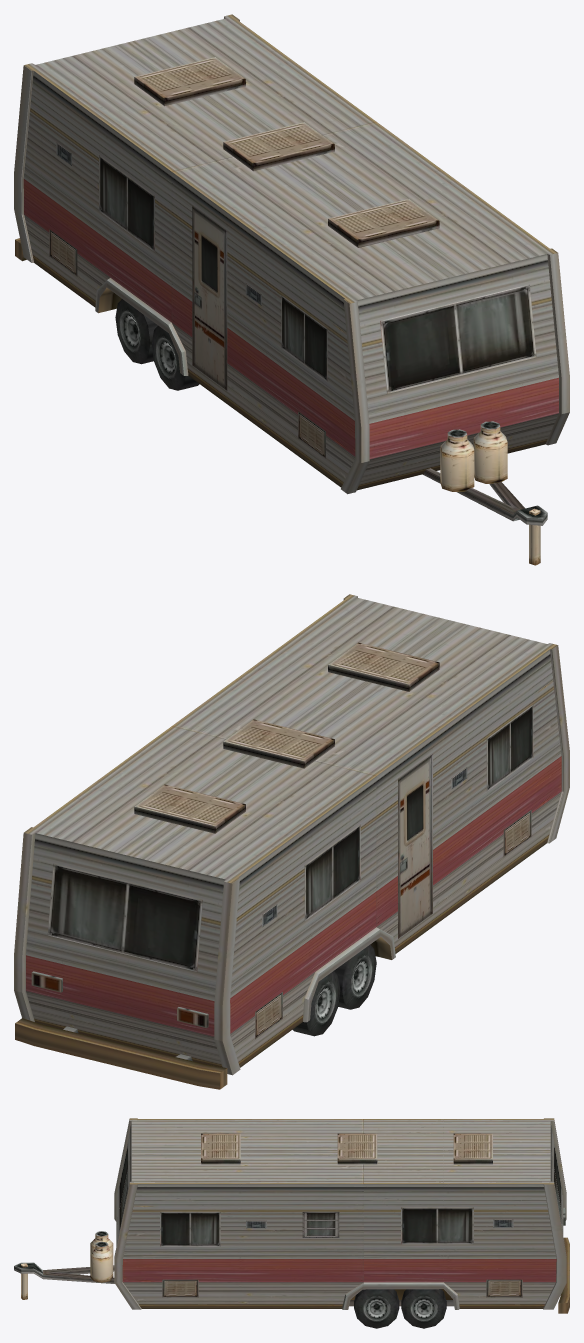
The model's file is rural-trailer.lod0.glb.
3 renders of one model, top to bottom at view 1: azimuth 30°, elevation 25°; view 2: azimuth 150°, elevation 25°; view 3: azimuth 270°, elevation 25°, orthographic. The views are drawn at different scales.
Parts seen in each view (by area): view 1: Rural_TrailerH_1_Rural_Trailer_Stuff_1_0; view 2: Rural_TrailerH_1_Rural_Trailer_Stuff_1_0; view 3: Rural_TrailerH_1_Rural_Trailer_Stuff_1_0.
Boxes of the visible parts, x1,y1,x2,y2 form: Rural_TrailerH_1_Rural_Trailer_Stuff_1_0: (14,14,569,565); Rural_TrailerH_1_Rural_Trailer_Stuff_1_0: (14,594,569,1089); Rural_TrailerH_1_Rural_Trailer_Stuff_1_0: (14,1118,569,1328).
Bounding box in the file's own units: 2.83 × 2.98 × 9.88.
1 material, 1 textured.
